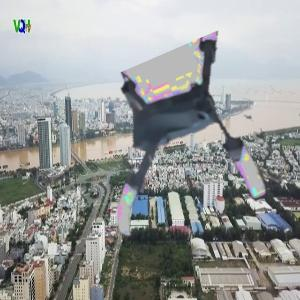drone: (82, 59, 265, 242)
